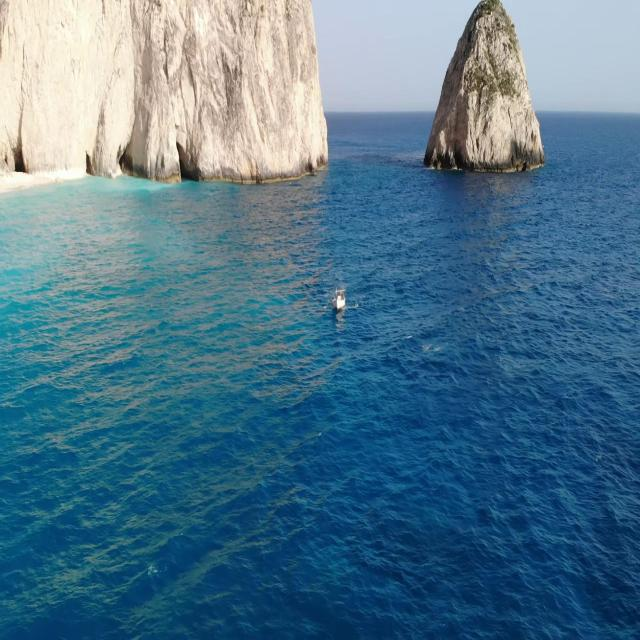boat: (332, 282, 348, 315)
